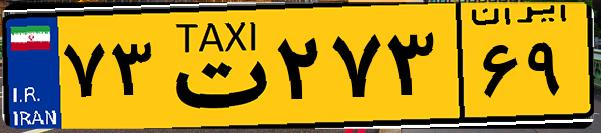2: (270, 28, 330, 110)
3: (385, 28, 445, 110), (110, 28, 158, 98)
6: (475, 38, 525, 113)
7: (330, 28, 385, 110), (57, 26, 110, 100)
9: (525, 38, 570, 115)
ت: (158, 12, 270, 120)
